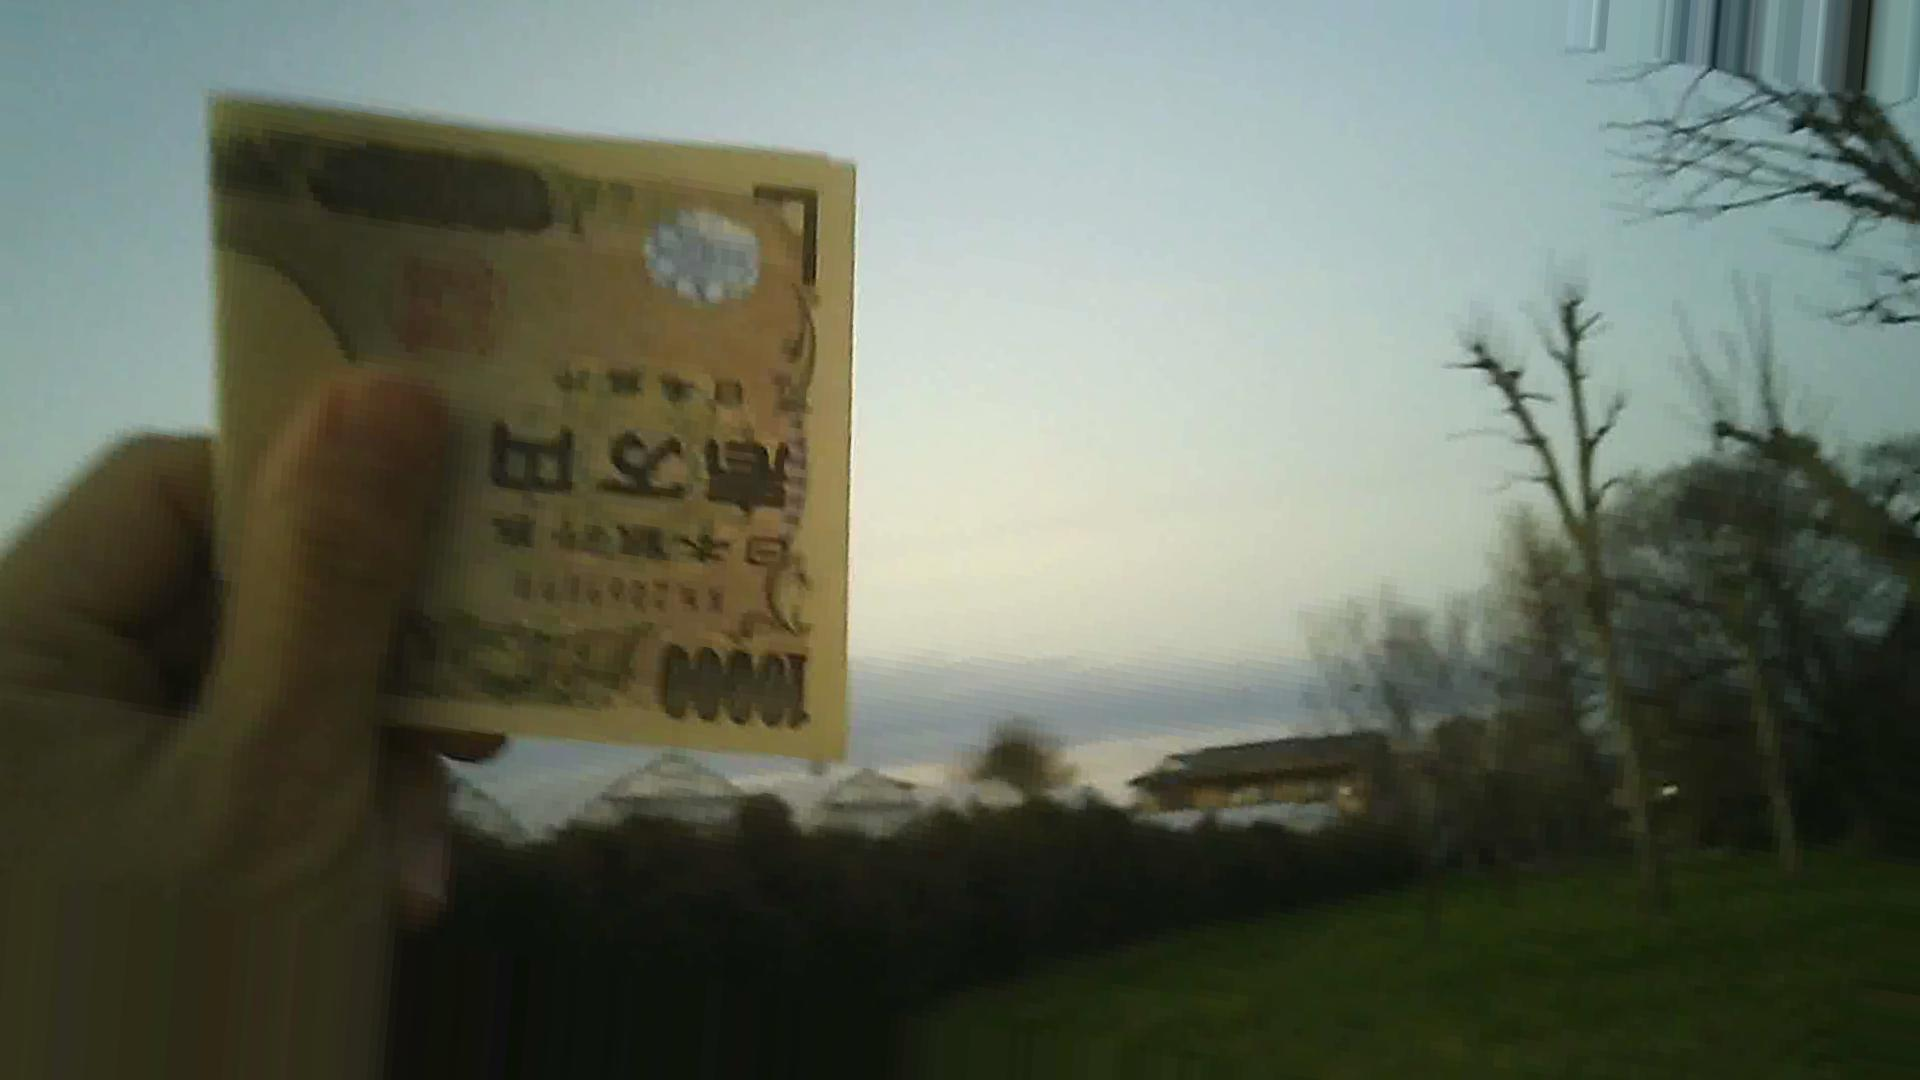10,000 Yen: (182, 75, 891, 775)
